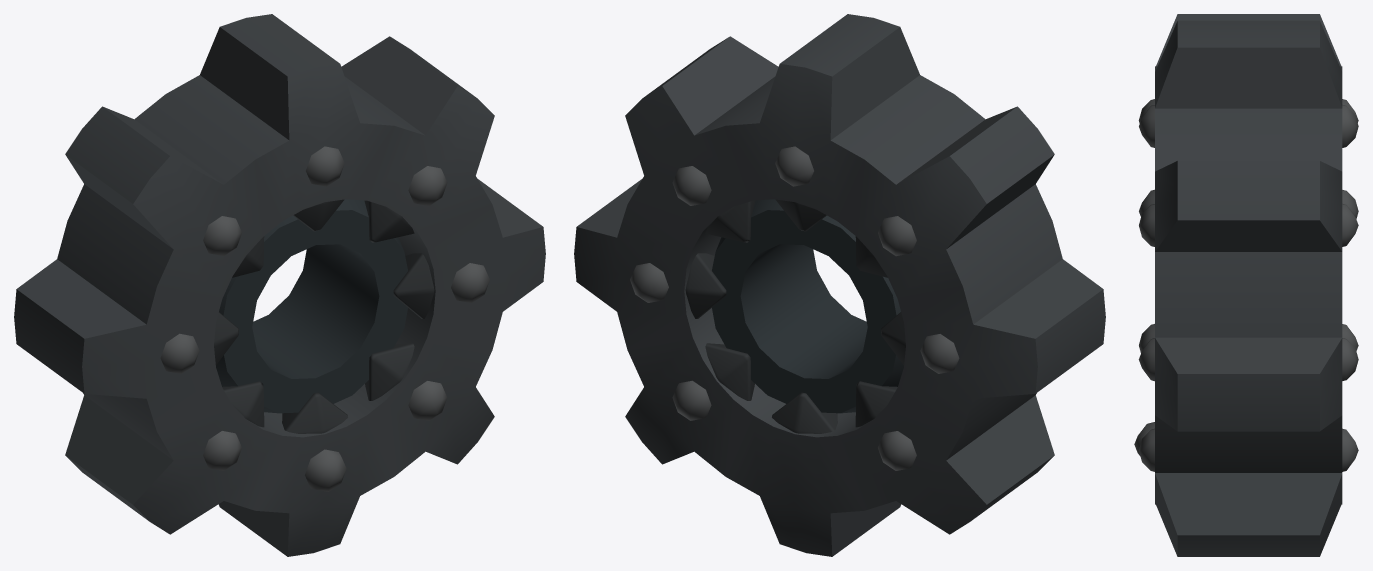
Rendered from Gear_002.glb.
3 renders of one model, left to right at view 1: azimuth 30°, elevation 25°; view 2: azimuth 150°, elevation 25°; view 3: azimuth 270°, elevation 25°, orthographic. The views are drawn at different scales.
Visible parts, largest first — view 1: Gear_002; view 2: Gear_002; view 3: Gear_002.
Part boxes in pixels (<box>): Gear_002: <box>14,14,545,556</box>; Gear_002: <box>574,14,1105,556</box>; Gear_002: <box>1134,14,1358,556</box>.
Bounding box in the file's own units: 6.32 × 6.32 × 2.53.
Materials: 1 (1 with a texture image).
